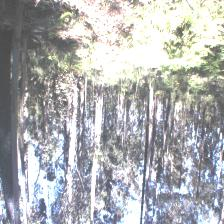trunktrack_idkeyframe: (11, 27, 22, 125)
